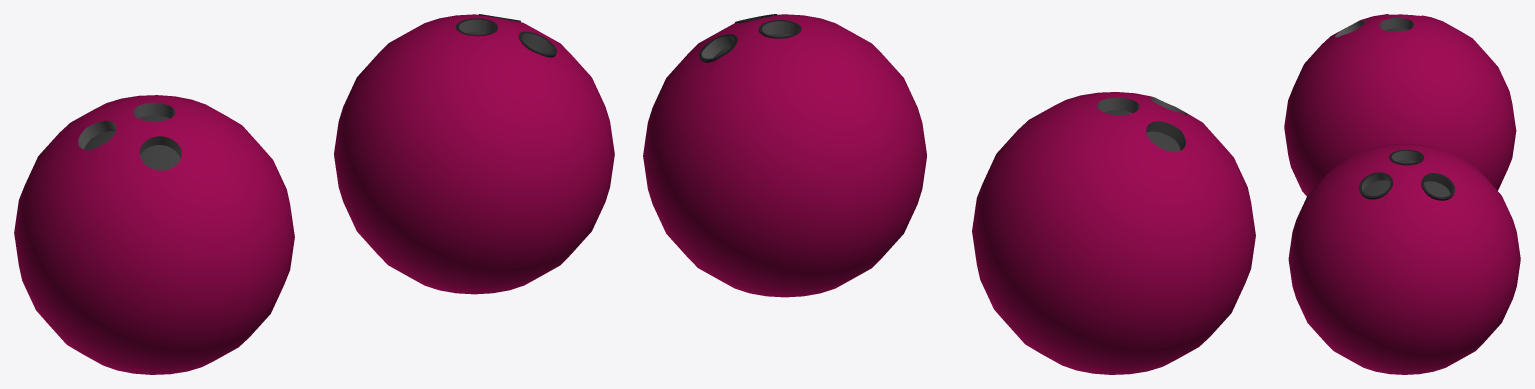
File: bolas.obj
The picture shows the model from 3 angles, left to right: view 1: azimuth 30°, elevation 25°; view 2: azimuth 150°, elevation 25°; view 3: azimuth 270°, elevation 25°; orthographic projection. The views are drawn at different scales.
Visible parts, largest first — view 1: Mesh2 Group1 Model, Mesh3 Group2 Model, Mesh4 Group2 Model; view 2: Mesh2 Group1 Model, Mesh3 Group2 Model, Mesh4 Group2 Model; view 3: Mesh2 Group1 Model, Mesh3 Group2 Model, Mesh1 Group1 Model.
Part boxes in pixels (x1,y1,x2,y2): Mesh2 Group1 Model: [334, 14, 614, 294]; Mesh3 Group2 Model: [14, 95, 294, 374]; Mesh4 Group2 Model: [84, 115, 180, 170]; Mesh2 Group1 Model: [643, 14, 926, 297]; Mesh3 Group2 Model: [972, 92, 1255, 374]; Mesh4 Group2 Model: [1104, 110, 1180, 152]; Mesh2 Group1 Model: [1288, 143, 1520, 374]; Mesh3 Group2 Model: [1284, 14, 1516, 196]; Mesh1 Group1 Model: [1363, 160, 1450, 197].
Size of the model in its own units: 210 by 89.63 by 92.01.
